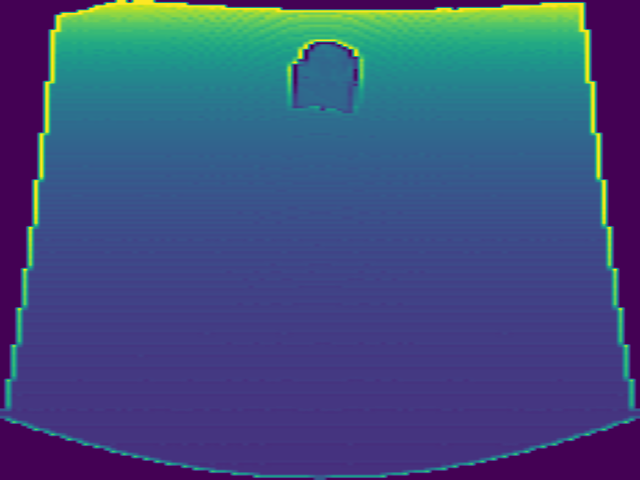car_0027: (286, 40, 366, 116)
